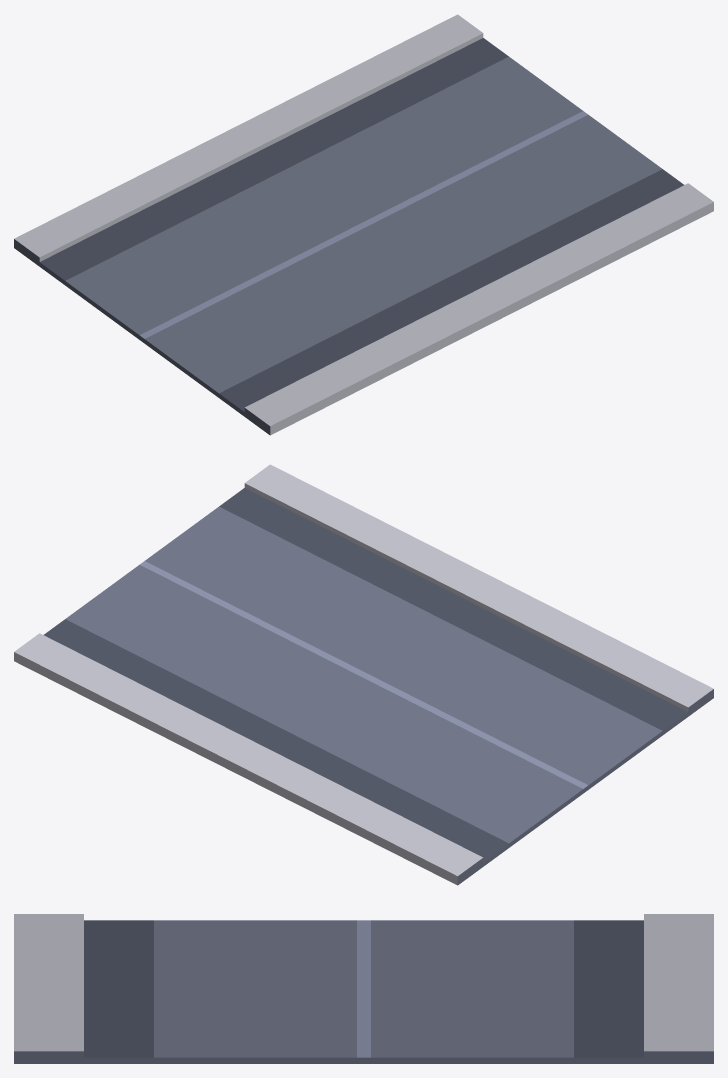
File: road_slantFlat.glb
3 renders of one model, top to bottom at view 1: azimuth 30°, elevation 25°; view 2: azimuth 150°, elevation 25°; view 3: azimuth 270°, elevation 25°, orthographic. The views are drawn at different scales.
Visible parts, largest first — view 1: road_slantFlat_9a54d7, road_slantFlat_489ebf, road_slantFlat_f9351a, road_slantFlat_f8134b; view 2: road_slantFlat_9a54d7, road_slantFlat_489ebf, road_slantFlat_f9351a, road_slantFlat_f8134b; view 3: road_slantFlat_9a54d7, road_slantFlat_489ebf, road_slantFlat_f9351a, road_slantFlat_f8134b.
Boxes of the visible parts, bbox=[...] form: road_slantFlat_9a54d7: bbox=[14, 56, 662, 435]; road_slantFlat_489ebf: bbox=[14, 14, 713, 435]; road_slantFlat_f9351a: bbox=[40, 38, 683, 411]; road_slantFlat_f8134b: bbox=[140, 111, 587, 338]; road_slantFlat_9a54d7: bbox=[65, 506, 713, 885]; road_slantFlat_489ebf: bbox=[14, 464, 713, 885]; road_slantFlat_f9351a: bbox=[44, 488, 687, 861]; road_slantFlat_f8134b: bbox=[140, 561, 587, 788]; road_slantFlat_9a54d7: bbox=[14, 920, 713, 1063]; road_slantFlat_489ebf: bbox=[14, 914, 713, 1051]; road_slantFlat_f9351a: bbox=[84, 920, 643, 1057]; road_slantFlat_f8134b: bbox=[357, 920, 370, 1057].
Bounding box in the file's own units: 1 × 0.27 × 1.
